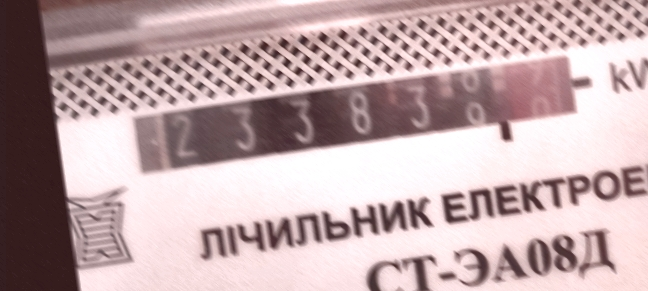0: (528, 92, 554, 121)
2: (169, 111, 199, 161)
3: (226, 101, 261, 154), (284, 95, 319, 147), (403, 81, 433, 130)
8: (343, 88, 376, 137), (457, 66, 484, 96)
9: (522, 56, 548, 88), (463, 98, 487, 130)
screen: (120, 42, 600, 197)
